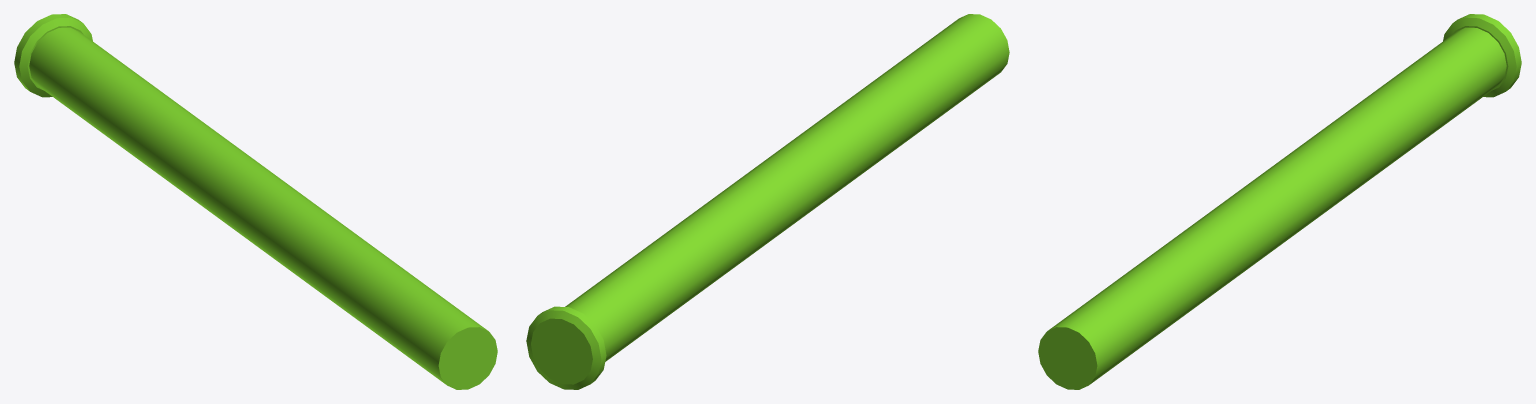
File: Pipe_05_Lod0.fbx
3 views of the same model, side by side, from view 1: azimuth 30°, elevation 25°; view 2: azimuth 150°, elevation 25°; view 3: azimuth 330°, elevation 25° (orthographic).
Visible parts, largest first — view 1: Pipe_05_Lod0; view 2: Pipe_05_Lod0; view 3: Pipe_05_Lod0.
Part boxes in pixels (bbox=[...]): Pipe_05_Lod0: bbox=[14, 14, 497, 389]; Pipe_05_Lod0: bbox=[526, 14, 1009, 389]; Pipe_05_Lod0: bbox=[1038, 14, 1521, 389].
Bounding box in the file's own units: 313 × 313 × 3016.
